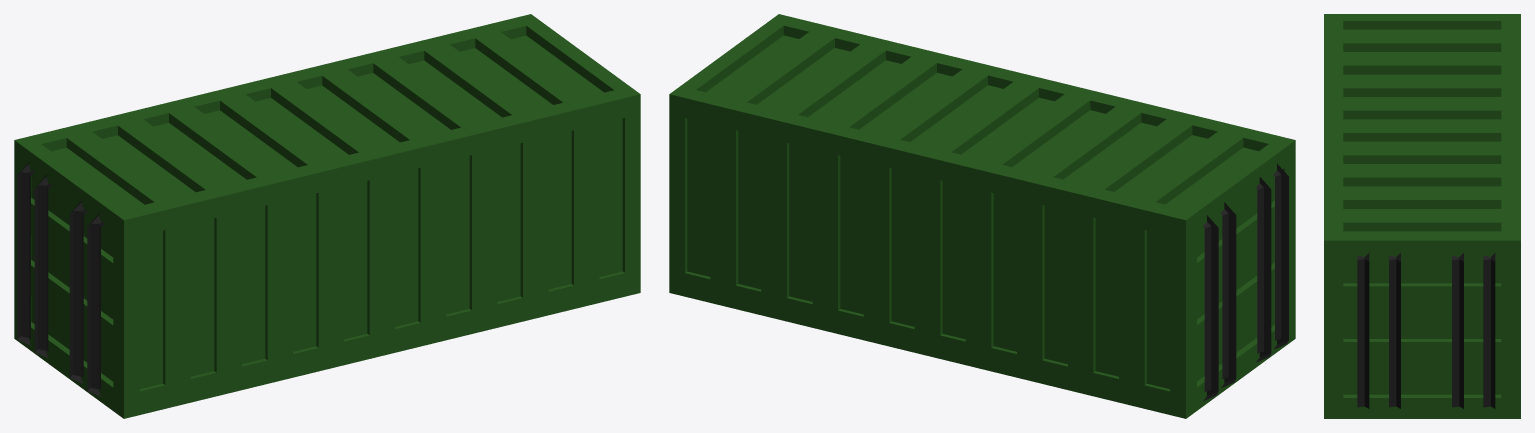
File: container_03.glb
3 views of the same model, side by side, from view 1: azimuth 30°, elevation 25°; view 2: azimuth 150°, elevation 25°; view 3: azimuth 270°, elevation 25° (orthographic). The views are drawn at different scales.
Visible parts, largest first — view 1: Container_03; view 2: Container_03; view 3: Container_03.
Boxes of the visible parts, x1,y1,x2,y2 form: Container_03: (14, 14, 640, 418); Container_03: (669, 14, 1295, 418); Container_03: (1324, 14, 1520, 418).
Size of the model in its own units: 12.2 by 4.25 by 4.25.
